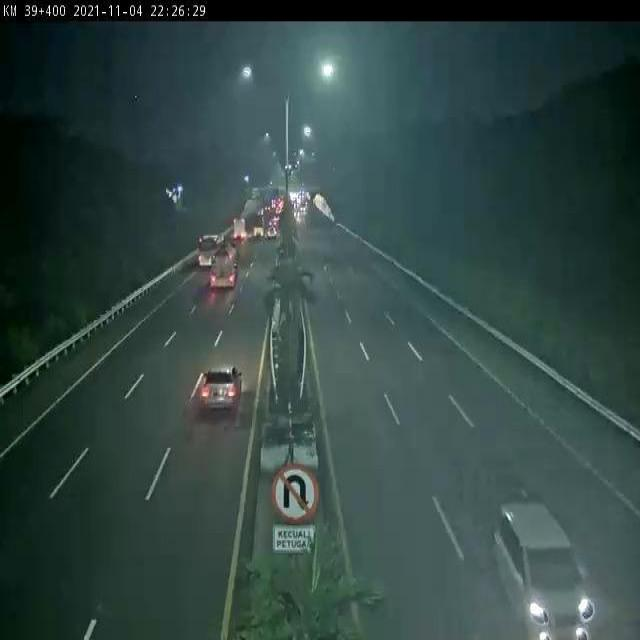bus-l-: (195, 215, 226, 276)
car: (493, 484, 613, 640), (195, 347, 262, 429)
truck-xl-: (209, 244, 248, 299)
